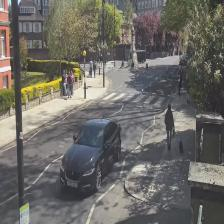person: (164, 104, 174, 149)
